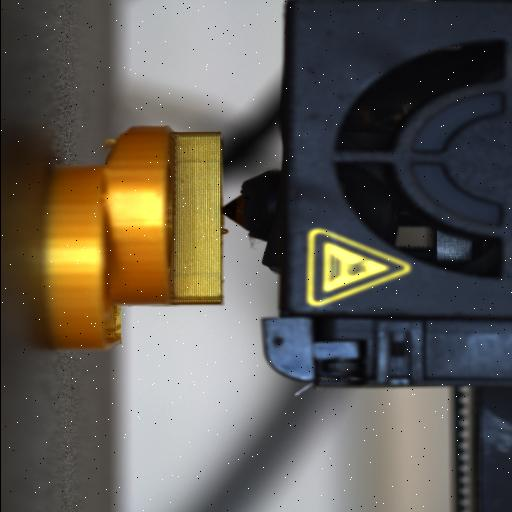layer_shift: (94, 127, 134, 354)
